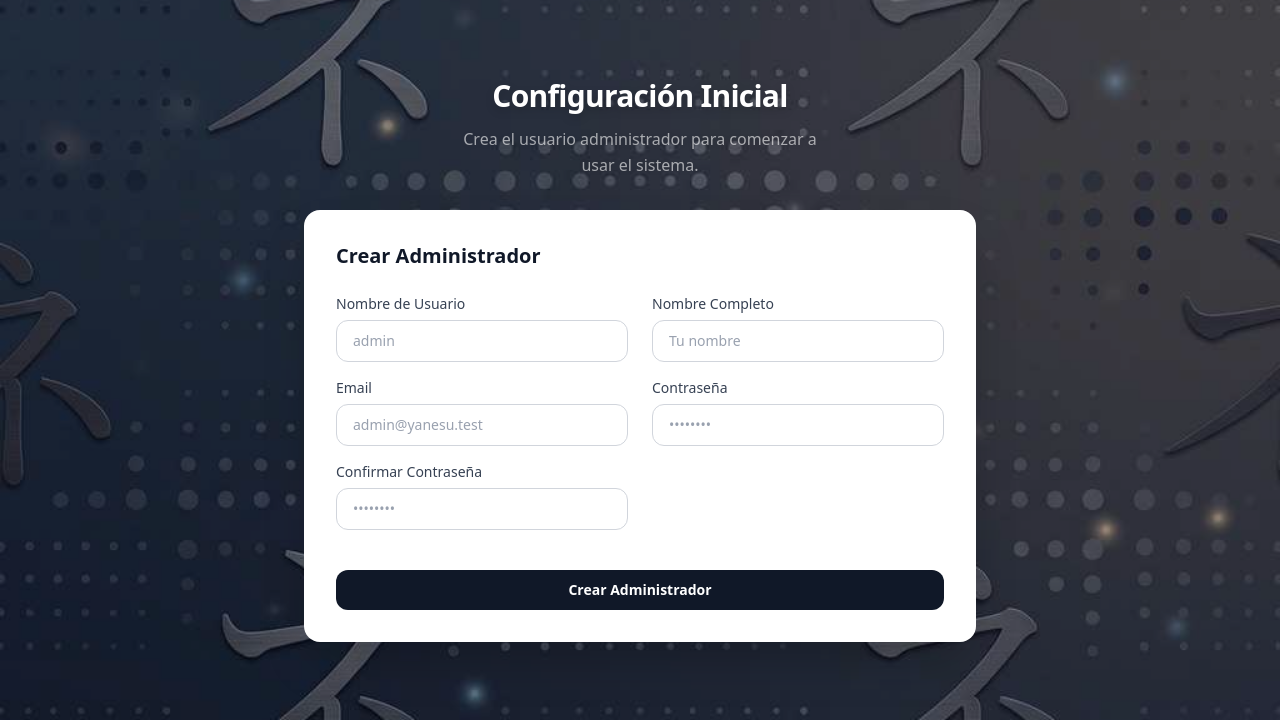
SetupPage › muestra error si los campos están vacíos al enviar
Click the button "Crear Administrador" at (640, 590), box 336,570 -> 944,610
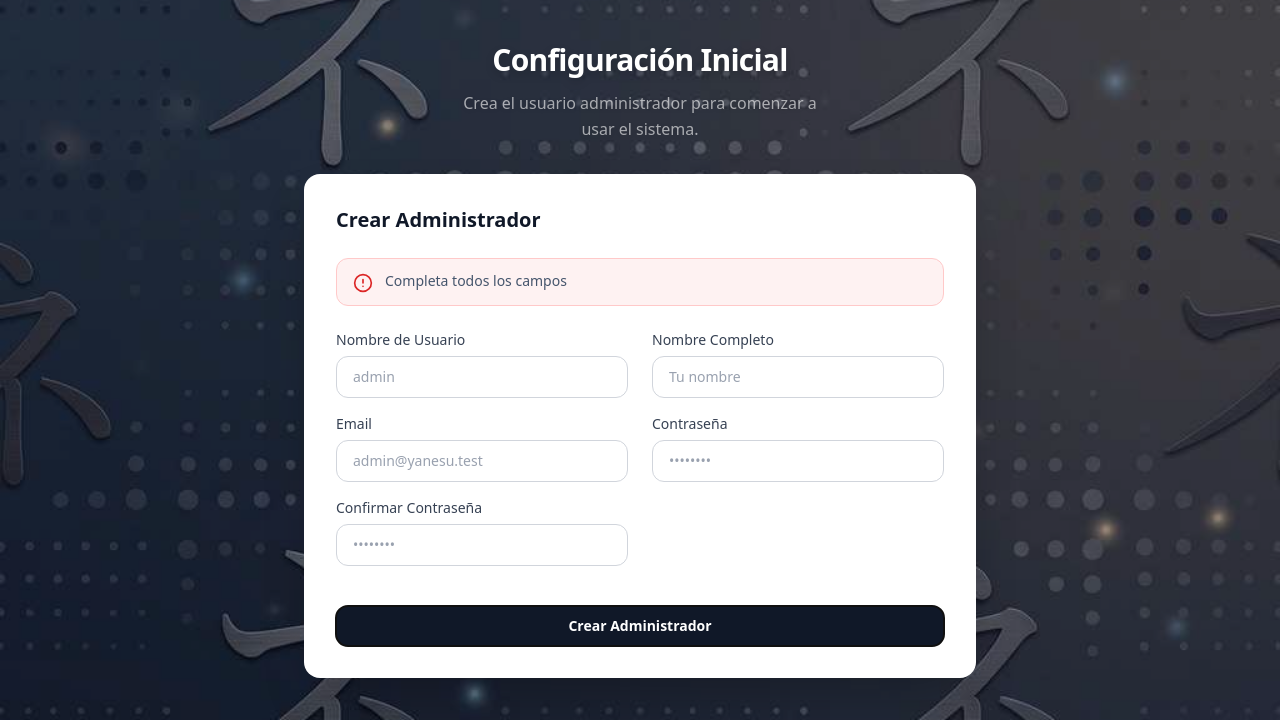
Now the text "Completa todos los campos" is shown, box 385,271 -> 567,290
